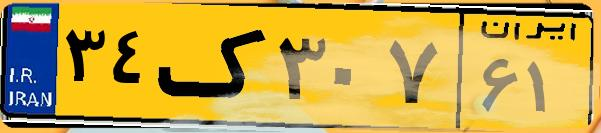0: (330, 28, 385, 110)
1: (525, 38, 570, 115)
3: (270, 28, 330, 110), (57, 26, 110, 100)
4: (110, 28, 158, 98)
6: (475, 38, 525, 113)
7: (385, 28, 445, 110)
ک: (158, 12, 270, 120)
